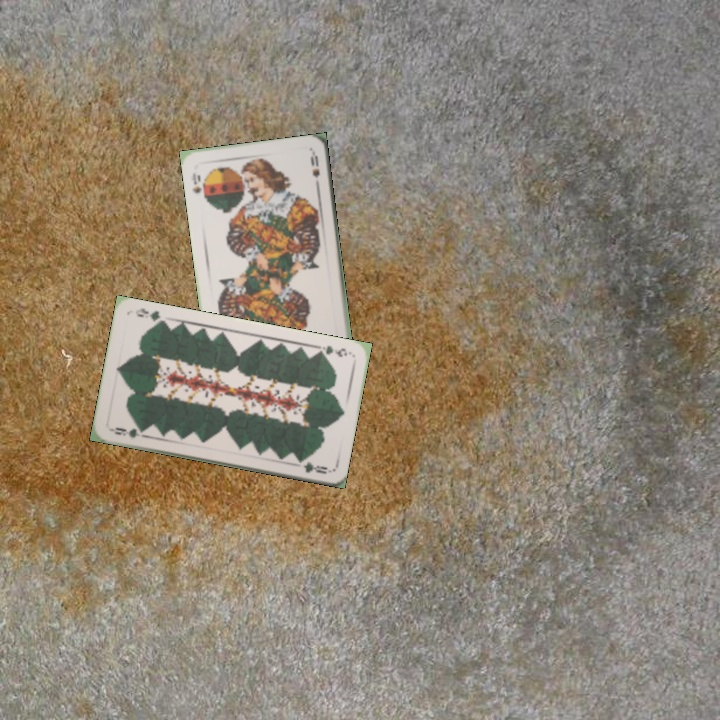G9: (313, 341, 354, 360), (106, 423, 147, 440)
SO: (188, 169, 204, 196)
